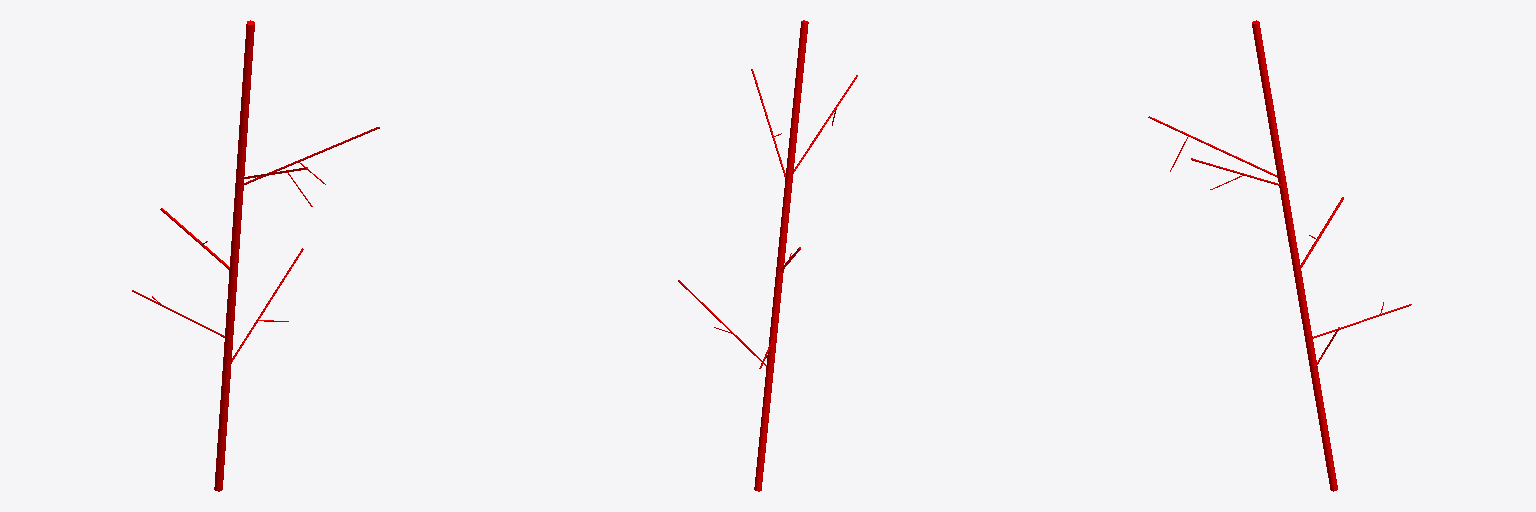
The robot description file, URDF, robot "tree_168.urdf":
<?xml version='1.0' encoding='UTF-8'?>
<robot name="tree_168.urdf">
  <link name="branch_0">
    <inertial>
      <origin xyz="0.0 0.0 0.0" rpy="0.0 -0.0 0.0"/>
      <mass value="0.1"/>
      <inertia ixx="0.001" ixy="0.0" ixz="0.0" iyy="0.001" iyz="0.0" izz="0.001"/>
    </inertial>
    <visual name="branch_0_visual">
      <geometry>
        <cylinder radius="0.06751770482670746" length="8.874801472656149"/>
      </geometry>
      <material name="semantic_material"/>
      <origin xyz="-0.09507495456734304 -0.677572377267811 4.384333669024587" rpy="-3.469446951953614e-18 0.15480927625856797 -1.7102032062839332"/>
    </visual>
    <collision name="branch_0_collision">
      <geometry>
        <cylinder radius="0.06751770482670746" length="8.874801472656149"/>
      </geometry>
      <origin xyz="-0.09507495456734304 -0.677572377267811 4.384333669024587" rpy="-3.469446951953614e-18 0.15480927625856797 -1.7102032062839332"/>
    </collision>
  </link>
  <link name="branch_1">
    <inertial>
      <origin xyz="0.0 0.0 0.0" rpy="0.0 -0.0 0.0"/>
      <mass value="0.1"/>
      <inertia ixx="0.001" ixy="0.0" ixz="0.0" iyy="0.001" iyz="0.0" izz="0.001"/>
    </inertial>
    <visual name="branch_1_visual">
      <geometry>
        <cylinder radius="0.022751376273783038" length="1.5439632769519518"/>
      </geometry>
      <material name="semantic_material"/>
      <origin xyz="0.0 0.0 0.0" rpy="0.0 -0.0 0.0"/>
    </visual>
    <collision name="branch_1_collision">
      <geometry>
        <cylinder radius="0.022751376273783038" length="1.5439632769519518"/>
      </geometry>
      <origin xyz="0.0 0.0 0.0" rpy="0.0 -0.0 0.0"/>
    </collision>
  </link>
  <link name="branch_2">
    <inertial>
      <origin xyz="0.0 0.0 0.0" rpy="0.0 -0.0 0.0"/>
      <mass value="0.1"/>
      <inertia ixx="0.001" ixy="0.0" ixz="0.0" iyy="0.001" iyz="0.0" izz="0.001"/>
    </inertial>
    <visual name="branch_2_visual">
      <geometry>
        <cylinder radius="0.01" length="0.17390989205515833"/>
      </geometry>
      <material name="semantic_material"/>
      <origin xyz="0.0 0.0 0.0" rpy="0.0 -0.0 0.0"/>
    </visual>
    <collision name="branch_2_collision">
      <geometry>
        <cylinder radius="0.01" length="0.17390989205515833"/>
      </geometry>
      <origin xyz="0.0 0.0 0.0" rpy="0.0 -0.0 0.0"/>
    </collision>
  </link>
  <link name="branch_3">
    <inertial>
      <origin xyz="0.0 0.0 0.0" rpy="0.0 -0.0 0.0"/>
      <mass value="0.1"/>
      <inertia ixx="0.001" ixy="0.0" ixz="0.0" iyy="0.001" iyz="0.0" izz="0.001"/>
    </inertial>
    <visual name="branch_3_visual">
      <geometry>
        <cylinder radius="0.0179426580336102" length="2.553657741850348"/>
      </geometry>
      <material name="semantic_material"/>
      <origin xyz="0.0 0.0 0.0" rpy="0.0 -0.0 0.0"/>
    </visual>
    <collision name="branch_3_collision">
      <geometry>
        <cylinder radius="0.0179426580336102" length="2.553657741850348"/>
      </geometry>
      <origin xyz="0.0 0.0 0.0" rpy="0.0 -0.0 0.0"/>
    </collision>
  </link>
  <link name="branch_4">
    <inertial>
      <origin xyz="0.0 0.0 0.0" rpy="0.0 -0.0 0.0"/>
      <mass value="0.1"/>
      <inertia ixx="0.001" ixy="0.0" ixz="0.0" iyy="0.001" iyz="0.0" izz="0.001"/>
    </inertial>
    <visual name="branch_4_visual">
      <geometry>
        <cylinder radius="0.01" length="0.7038049270673884"/>
      </geometry>
      <material name="semantic_material"/>
      <origin xyz="0.0 0.0 0.0" rpy="0.0 -0.0 0.0"/>
    </visual>
    <collision name="branch_4_collision">
      <geometry>
        <cylinder radius="0.01" length="0.7038049270673884"/>
      </geometry>
      <origin xyz="0.0 0.0 0.0" rpy="0.0 -0.0 0.0"/>
    </collision>
  </link>
  <link name="branch_5">
    <inertial>
      <origin xyz="0.0 0.0 0.0" rpy="0.0 -0.0 0.0"/>
      <mass value="0.1"/>
      <inertia ixx="0.001" ixy="0.0" ixz="0.0" iyy="0.001" iyz="0.0" izz="0.001"/>
    </inertial>
    <visual name="branch_5_visual">
      <geometry>
        <cylinder radius="0.01764573321690643" length="2.6183111558447614"/>
      </geometry>
      <material name="semantic_material"/>
      <origin xyz="0.0 0.0 0.0" rpy="0.0 -0.0 0.0"/>
    </visual>
    <collision name="branch_5_collision">
      <geometry>
        <cylinder radius="0.01764573321690643" length="2.6183111558447614"/>
      </geometry>
      <origin xyz="0.0 0.0 0.0" rpy="0.0 -0.0 0.0"/>
    </collision>
  </link>
  <link name="branch_6">
    <inertial>
      <origin xyz="0.0 0.0 0.0" rpy="0.0 -0.0 0.0"/>
      <mass value="0.1"/>
      <inertia ixx="0.001" ixy="0.0" ixz="0.0" iyy="0.001" iyz="0.0" izz="0.001"/>
    </inertial>
    <visual name="branch_6_visual">
      <geometry>
        <cylinder radius="0.01" length="0.6424254972150882"/>
      </geometry>
      <material name="semantic_material"/>
      <origin xyz="0.0 0.0 0.0" rpy="0.0 -0.0 0.0"/>
    </visual>
    <collision name="branch_6_collision">
      <geometry>
        <cylinder radius="0.01" length="0.6424254972150882"/>
      </geometry>
      <origin xyz="0.0 0.0 0.0" rpy="0.0 -0.0 0.0"/>
    </collision>
  </link>
  <link name="branch_7">
    <inertial>
      <origin xyz="0.0 0.0 0.0" rpy="0.0 -0.0 0.0"/>
      <mass value="0.1"/>
      <inertia ixx="0.001" ixy="0.0" ixz="0.0" iyy="0.001" iyz="0.0" izz="0.001"/>
    </inertial>
    <visual name="branch_7_visual">
      <geometry>
        <cylinder radius="0.016128516783734486" length="1.938217518007566"/>
      </geometry>
      <material name="semantic_material"/>
      <origin xyz="0.0 0.0 0.0" rpy="0.0 -0.0 0.0"/>
    </visual>
    <collision name="branch_7_collision">
      <geometry>
        <cylinder radius="0.016128516783734486" length="1.938217518007566"/>
      </geometry>
      <origin xyz="0.0 0.0 0.0" rpy="0.0 -0.0 0.0"/>
    </collision>
  </link>
  <link name="branch_8">
    <inertial>
      <origin xyz="0.0 0.0 0.0" rpy="0.0 -0.0 0.0"/>
      <mass value="0.1"/>
      <inertia ixx="0.001" ixy="0.0" ixz="0.0" iyy="0.001" iyz="0.0" izz="0.001"/>
    </inertial>
    <visual name="branch_8_visual">
      <geometry>
        <cylinder radius="0.01" length="0.2333131372395079"/>
      </geometry>
      <material name="semantic_material"/>
      <origin xyz="0.0 0.0 0.0" rpy="0.0 -0.0 0.0"/>
    </visual>
    <collision name="branch_8_collision">
      <geometry>
        <cylinder radius="0.01" length="0.2333131372395079"/>
      </geometry>
      <origin xyz="0.0 0.0 0.0" rpy="0.0 -0.0 0.0"/>
    </collision>
  </link>
  <link name="branch_9">
    <inertial>
      <origin xyz="0.0 0.0 0.0" rpy="0.0 -0.0 0.0"/>
      <mass value="0.1"/>
      <inertia ixx="0.001" ixy="0.0" ixz="0.0" iyy="0.001" iyz="0.0" izz="0.001"/>
    </inertial>
    <visual name="branch_9_visual">
      <geometry>
        <cylinder radius="0.016559563161263623" length="2.299938322344244"/>
      </geometry>
      <material name="semantic_material"/>
      <origin xyz="0.0 0.0 0.0" rpy="0.0 -0.0 0.0"/>
    </visual>
    <collision name="branch_9_collision">
      <geometry>
        <cylinder radius="0.016559563161263623" length="2.299938322344244"/>
      </geometry>
      <origin xyz="0.0 0.0 0.0" rpy="0.0 -0.0 0.0"/>
    </collision>
  </link>
  <link name="branch_10">
    <inertial>
      <origin xyz="0.0 0.0 0.0" rpy="0.0 -0.0 0.0"/>
      <mass value="0.1"/>
      <inertia ixx="0.001" ixy="0.0" ixz="0.0" iyy="0.001" iyz="0.0" izz="0.001"/>
    </inertial>
    <visual name="branch_10_visual">
      <geometry>
        <cylinder radius="0.01" length="0.5122852424683632"/>
      </geometry>
      <material name="semantic_material"/>
      <origin xyz="0.0 0.0 0.0" rpy="0.0 -0.0 0.0"/>
    </visual>
    <collision name="branch_10_collision">
      <geometry>
        <cylinder radius="0.01" length="0.5122852424683632"/>
      </geometry>
      <origin xyz="0.0 0.0 0.0" rpy="0.0 -0.0 0.0"/>
    </collision>
  </link>
  <joint name="joint_0_1" type="fixed">
    <parent link="branch_0"/>
    <child link="branch_1"/>
    <axis xyz="1. 0. 0."/>
    <origin xyz="-0.5269625242052091 -0.23847166861736985 4.581221116175468" rpy="-0.18212054712544218 0.8521787490836347 2.1717698222263793"/>
  </joint>
  <joint name="joint_0_3" type="fixed">
    <parent link="branch_0"/>
    <child link="branch_3"/>
    <axis xyz="1. 0. 0."/>
    <origin xyz="-0.1703081073301128 -2.0460758537188166 6.399364758716056" rpy="0.03856853973984232 1.1123503858279076 -1.5660317325838877"/>
  </joint>
  <joint name="joint_0_5" type="fixed">
    <parent link="branch_0"/>
    <child link="branch_5"/>
    <axis xyz="1. 0. 0."/>
    <origin xyz="0.7053893582355811 -1.6658482916213322 6.335589964220404" rpy="0.26435477087179665 1.0397228917525474 -0.45441781469651665"/>
  </joint>
  <joint name="joint_0_7" type="fixed">
    <parent link="branch_0"/>
    <child link="branch_7"/>
    <axis xyz="1. 0. 0."/>
    <origin xyz="-0.43646113140491427 0.44387581495335654 2.9766983295652034" rpy="-0.4567679756510825 1.3915960385172383 1.5107233419036585"/>
  </joint>
  <joint name="joint_0_9" type="fixed">
    <parent link="branch_0"/>
    <child link="branch_9"/>
    <axis xyz="1. 0. 0."/>
    <origin xyz="0.7742020047313201 -0.13470027001636692 3.0372894885617647" rpy="0.1970899674068154 0.814928381960056 0.5234330339761876"/>
  </joint>
  <joint name="joint_1_2" type="fixed">
    <parent link="branch_0"/>
    <child link="branch_2"/>
    <axis xyz="1. 0. 0."/>
    <origin xyz="-0.4555630977066598 -0.3581982743111057 4.567589767359175" rpy="0.554215706512185 0.799151169989554 -0.6541128736554995"/>
  </joint>
  <joint name="joint_3_4" type="fixed">
    <parent link="branch_0"/>
    <child link="branch_4"/>
    <axis xyz="1. 0. 0."/>
    <origin xyz="-0.0477500608520559 -2.660691938992962 6.3432595471064355" rpy="2.7041959489478193 0.4968526263868505 1.512390671105442"/>
  </joint>
  <joint name="joint_5_6" type="fixed">
    <parent link="branch_0"/>
    <child link="branch_6"/>
    <axis xyz="1. 0. 0."/>
    <origin xyz="0.6568188625398341 -1.8325092192066421 6.1284429819300055" rpy="-2.149071733865839 0.9282369709720214 2.9386503338280985"/>
  </joint>
  <joint name="joint_7_8" type="fixed">
    <parent link="branch_0"/>
    <child link="branch_8"/>
    <axis xyz="1. 0. 0."/>
    <origin xyz="-0.6573164996191176 0.8203903207796106 3.1229252282820408" rpy="0.675915782058418 -0.3557769311268877 -1.5576633208030781"/>
  </joint>
  <joint name="joint_9_10" type="fixed">
    <parent link="branch_0"/>
    <child link="branch_10"/>
    <axis xyz="1. 0. 0."/>
    <origin xyz="0.850721122449907 -0.26147722866627326 2.85445931913391" rpy="-1.800147301757531 1.0492440712376772 -2.106862718514715"/>
  </joint>
  <material name="semantic_material">
    <color rgba="1. 0. 0. 1."/>
  </material>
</robot>

--- Render facts (derived) ---
Views: 3 orthographic renders of the robot side by side, from view 1: azimuth 30°, elevation 25°; view 2: azimuth 150°, elevation 25°; view 3: azimuth 270°, elevation 25°.
Robot: tree_168.urdf — 11 links, 10 joints (10 fixed); root link branch_0; default pose: all joints at 0.
Links seen in each view (by area): view 1: branch_0; view 2: branch_0; view 3: branch_0.
Link boxes in pixels (x1,y1,x2,y2): branch_0: (214,20,254,491); branch_0: (754,20,808,491); branch_0: (1252,20,1337,491).
Size in the robot's own frame: 2.59 by 4.53 by 8.79 metres.
Geometry: primitives only (box / cylinder / sphere), no mesh files.
